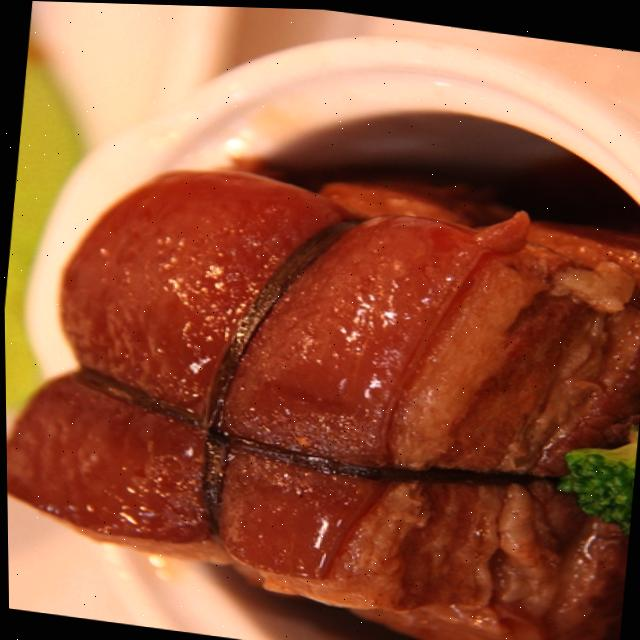牛肉菜式: (1, 71, 640, 640)
